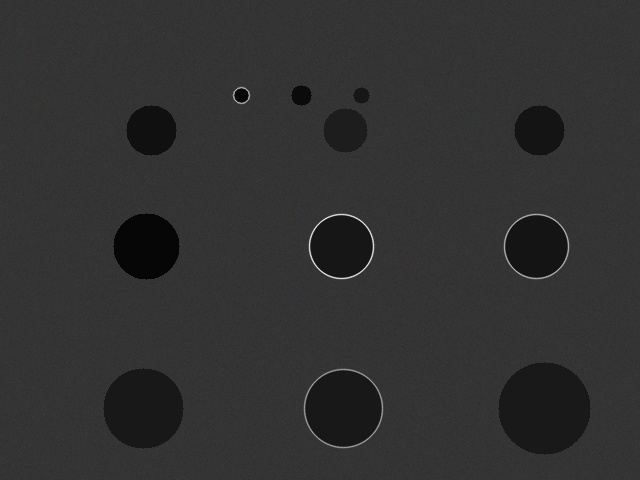hole: (498, 362, 590, 454), (103, 368, 183, 448), (304, 369, 382, 447), (113, 213, 179, 279), (309, 214, 373, 278), (504, 214, 568, 278), (126, 105, 176, 155), (514, 105, 564, 155), (323, 108, 367, 152), (291, 85, 311, 105), (233, 87, 249, 103), (353, 87, 369, 103)
